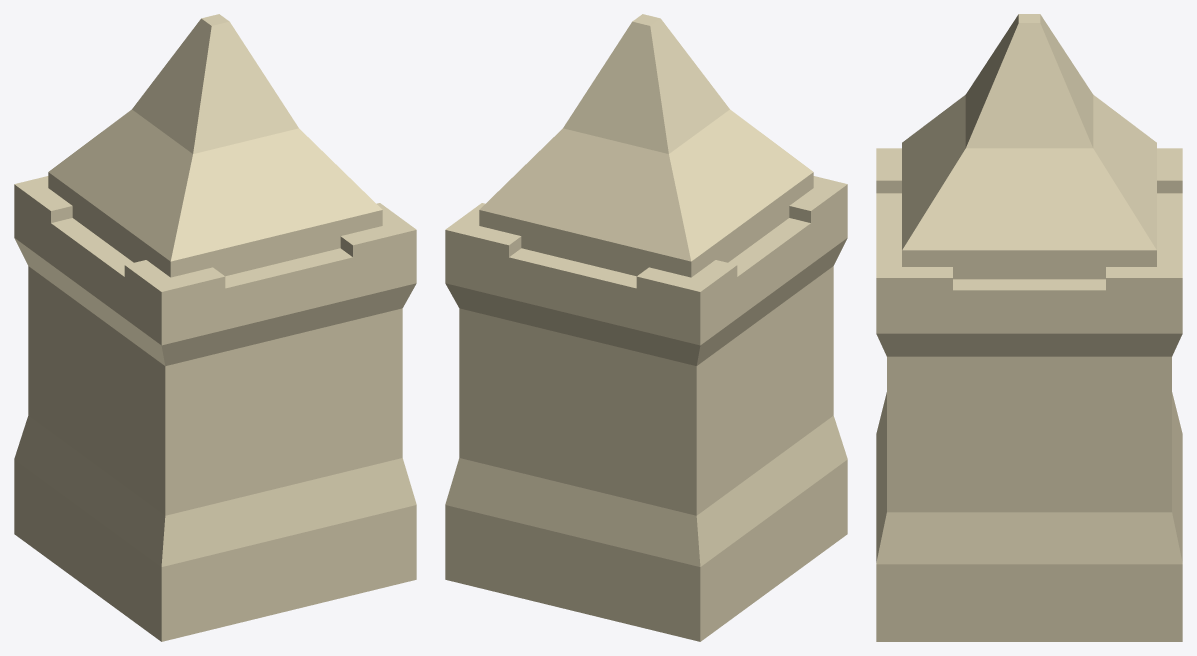
File: towersquareroof.glb
3 renders of one model, left to right at view 1: azimuth 30°, elevation 25°; view 2: azimuth 150°, elevation 25°; view 3: azimuth 270°, elevation 25°, orthographic. The views are drawn at different scales.
Parts seen in each view (by area): view 1: towerSquareRoof; view 2: towerSquareRoof; view 3: towerSquareRoof.
Part boxes in pixels (x1,y1,x2,y2): towerSquareRoof: [14, 14, 416, 641]; towerSquareRoof: [445, 14, 847, 641]; towerSquareRoof: [876, 14, 1182, 641].
Bounding box in the file's own units: 10 × 20.1 × 10.
